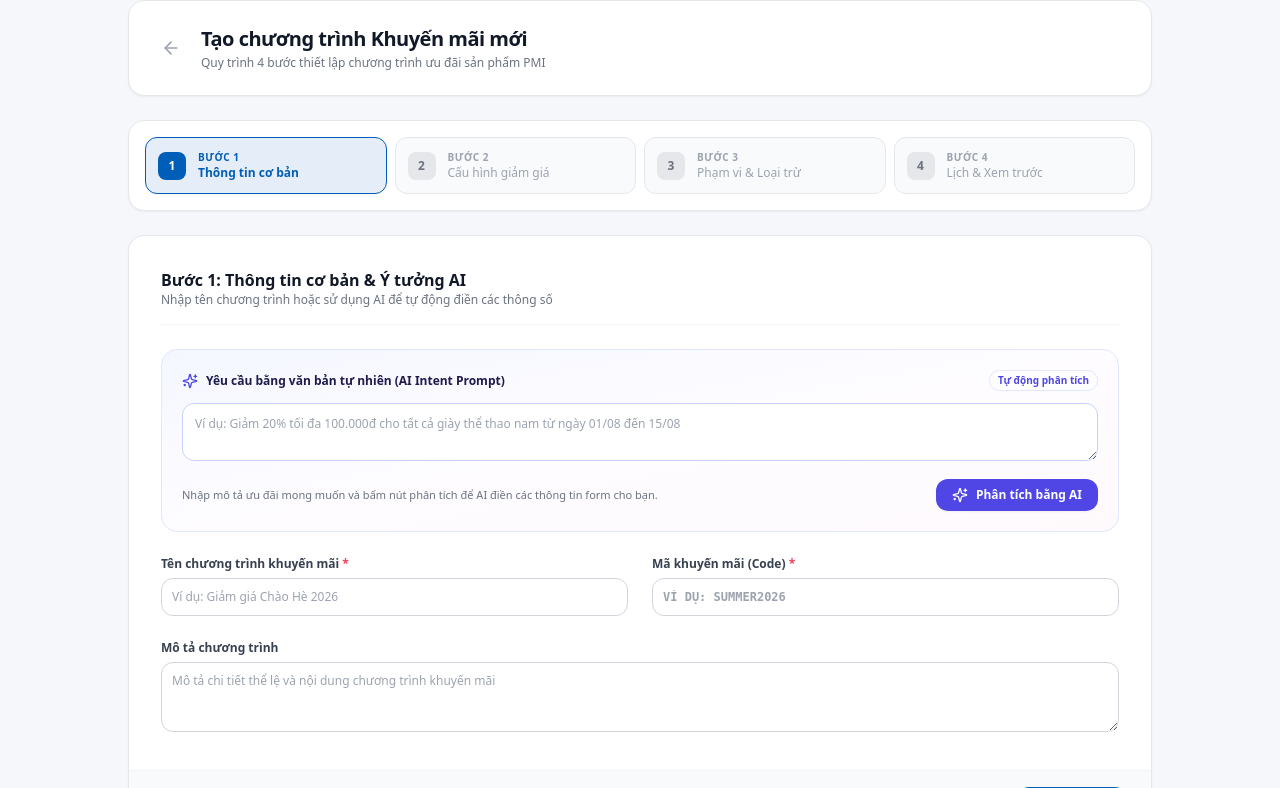
Test: PromotionForm Empirical Stress & Edge Case Tests › 5. Error handling when AI Intent Parser API fails
Type "Prompt error test" into the text box with placeholder "Ví dụ: Giảm 20% tối đa" at (640,432), box [182, 403, 1098, 461]
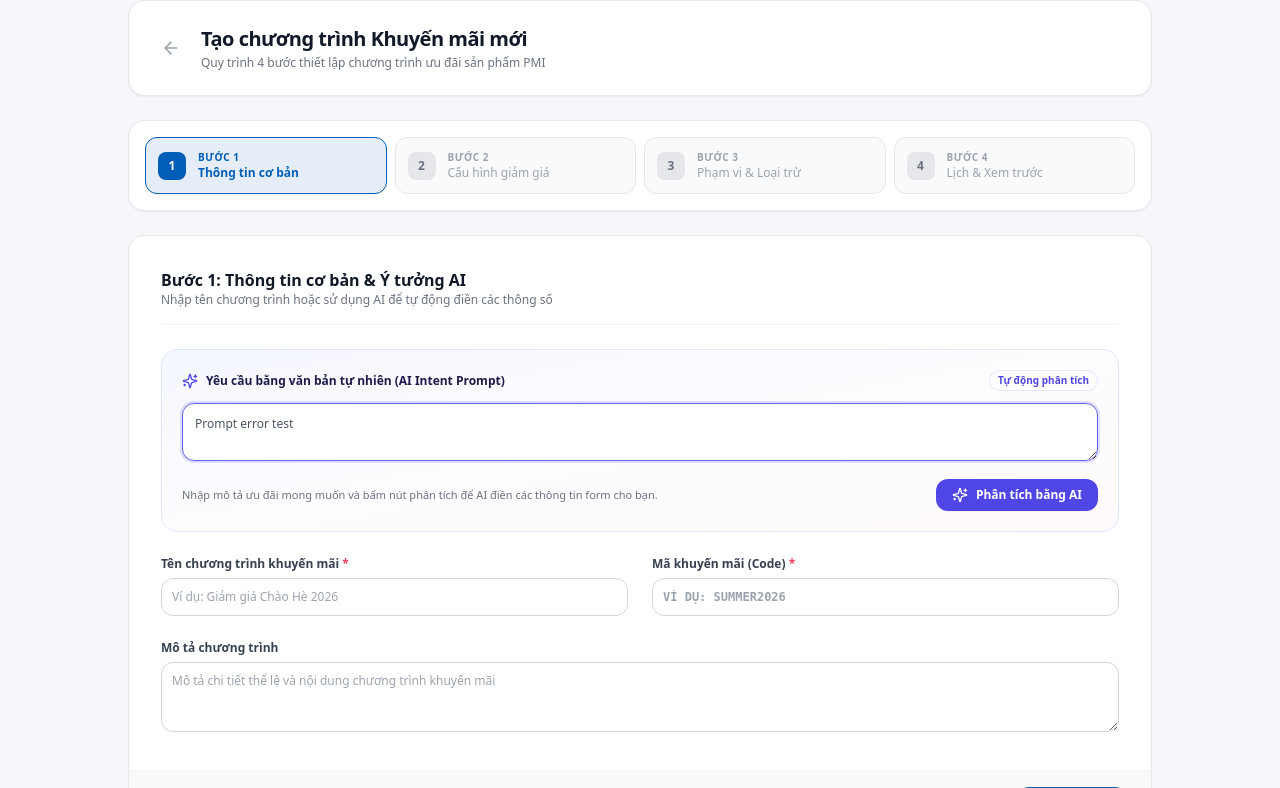
Click the button "Phân tích bằng AI" at (1017,495), box [936, 479, 1098, 511]
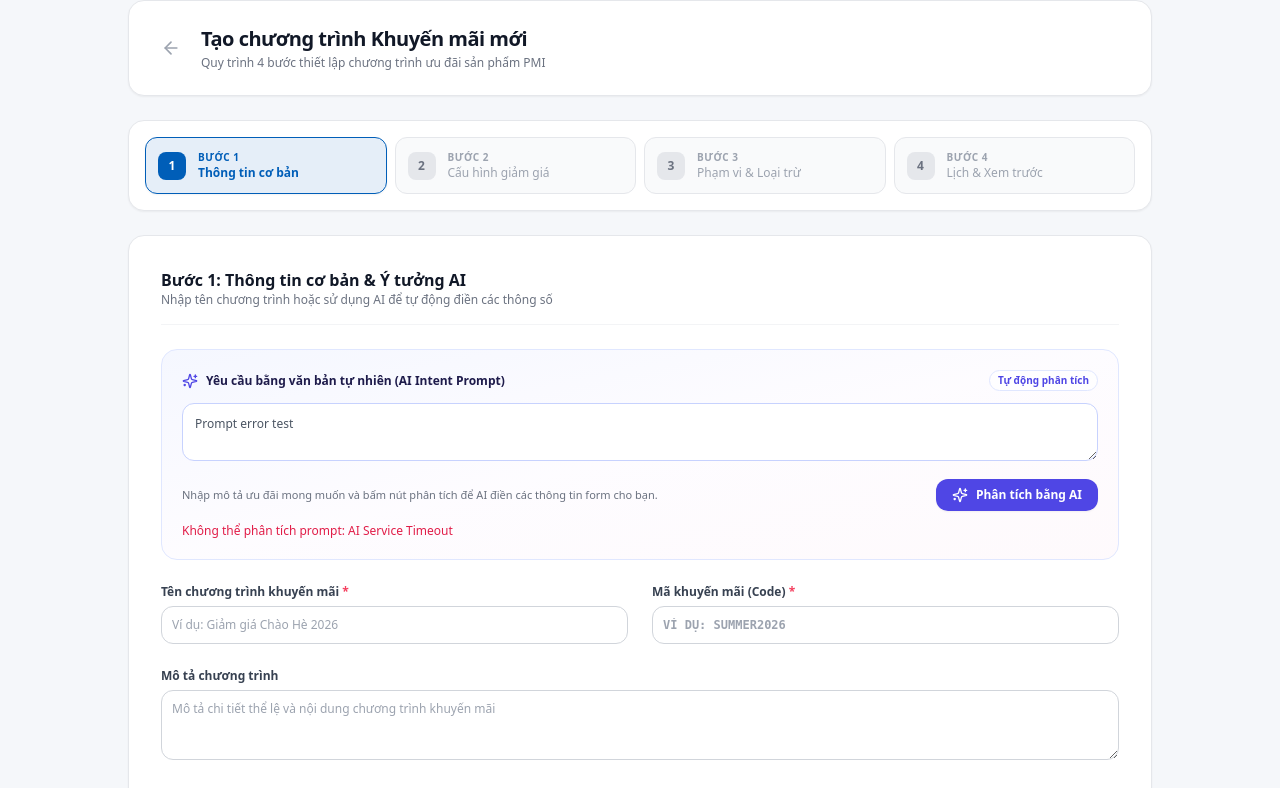
Result: the text "Không thể phân tích prompt: AI Service Timeout" is shown at [182, 522, 453, 539]
